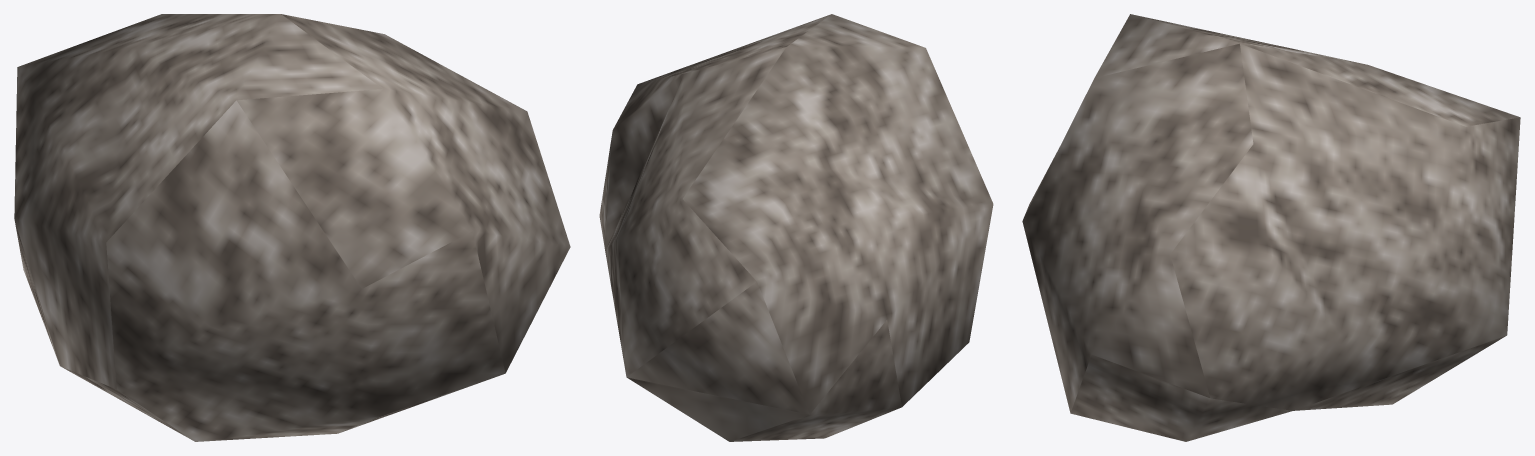
The model's file is lboulderreg_1.dae.
The picture shows the model from 3 angles, left to right: view 1: azimuth 30°, elevation 25°; view 2: azimuth 150°, elevation 25°; view 3: azimuth 270°, elevation 25°; orthographic projection. The views are drawn at different scales.
Visible parts, largest first — view 1: lboulderreg_1; view 2: lboulderreg_1; view 3: lboulderreg_1.
Boxes of the visible parts, x1,y1,x2,y2 form: lboulderreg_1: [14, 14, 570, 441]; lboulderreg_1: [599, 14, 993, 441]; lboulderreg_1: [1022, 14, 1520, 441].
Bounding box in the file's own units: 2.08 × 2.17 × 1.76.
1 material, 1 textured.
